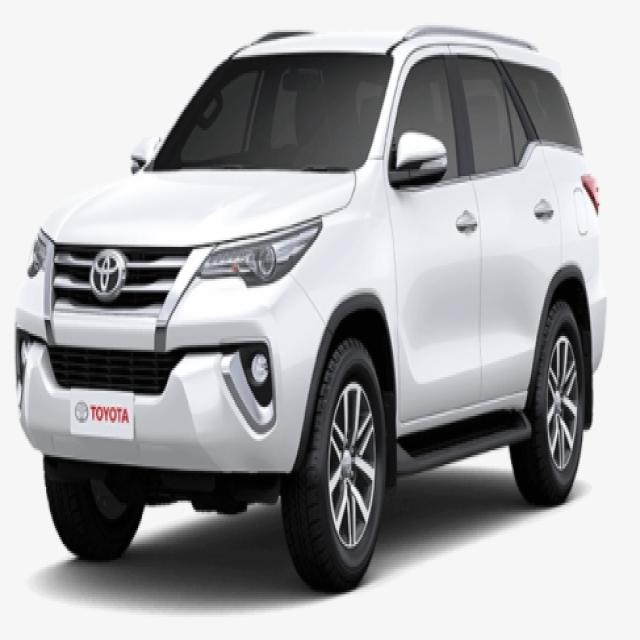light_vehicle: (15, 28, 607, 594)
